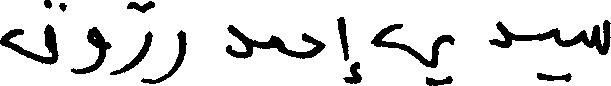X: (374, 19, 452, 85), (0, 0, 56, 69), (114, 0, 151, 85), (153, 0, 183, 85), (75, 22, 102, 78), (585, 15, 610, 59), (230, 20, 249, 63), (304, 28, 323, 63), (491, 16, 508, 52), (553, 23, 559, 85), (338, 12, 343, 83), (270, 30, 282, 57)
